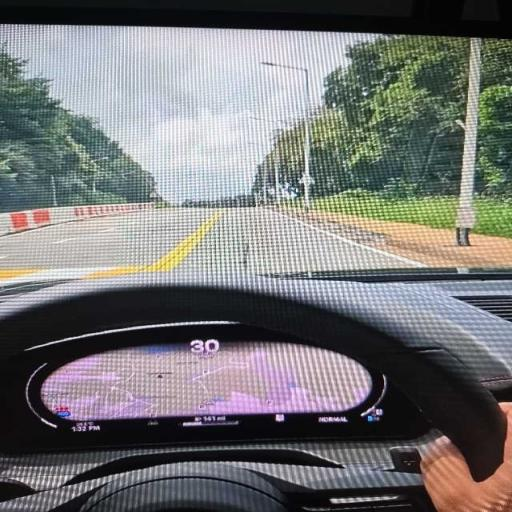car: (0, 3, 511, 511)
lane: (0, 208, 420, 282), (176, 208, 421, 274), (0, 209, 214, 269)
person: (421, 403, 511, 511)
